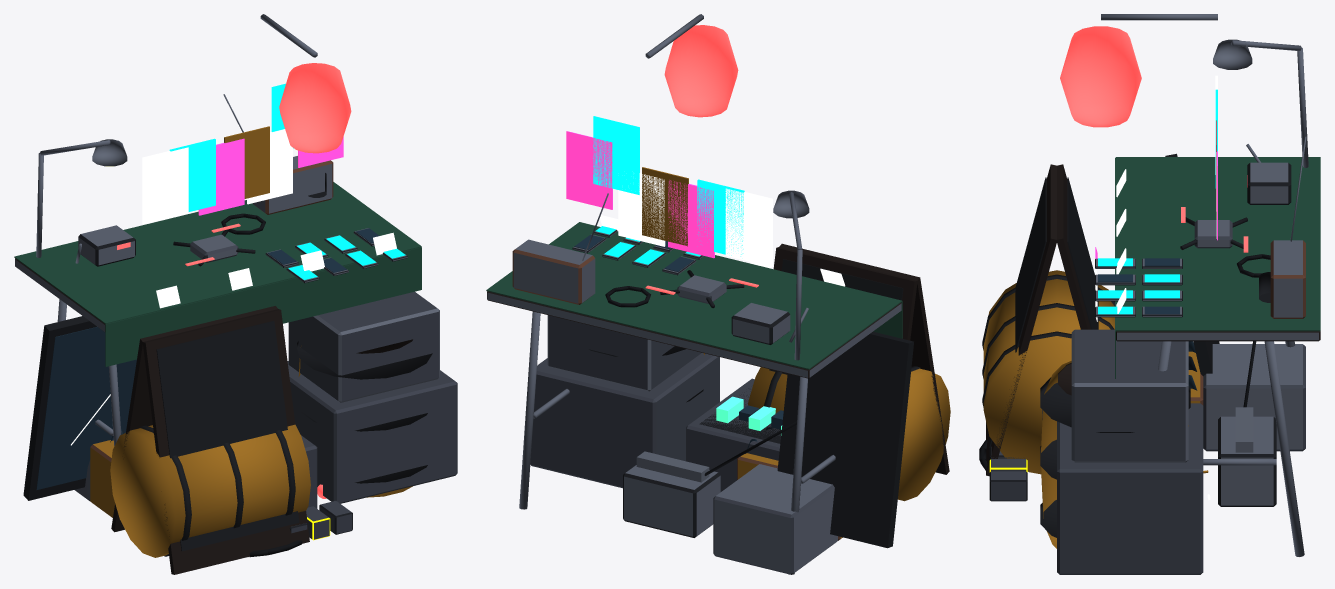
File: room-detail-rynek-props.glb
The picture shows the model from 3 angles, left to right: view 1: azimuth 30°, elevation 25°; view 2: azimuth 150°, elevation 25°; view 3: azimuth 270°, elevation 25°; orthographic projection. The views are drawn at different scales.
Parts seen in each view (by area): view 1: rd-ry-table, rd-ry-denki, rd-ry-karaoke, rd-ry-sake; view 2: rd-ry-table, rd-ry-denki, rd-ry-karaoke, rd-ry-sake; view 3: rd-ry-table, rd-ry-denki, rd-ry-sake, rd-ry-karaoke.
Part boxes in pixels (box(x1,y1,x2,y2)): rd-ry-table: box(14, 94, 421, 500); rd-ry-denki: box(23, 291, 457, 557); rd-ry-karaoke: box(111, 83, 343, 574); rd-ry-sake: box(90, 14, 432, 557); rd-ry-table: box(486, 190, 902, 574); rd-ry-denki: box(530, 315, 913, 548); rd-ry-karaoke: box(566, 116, 949, 474); rd-ry-sake: box(589, 14, 950, 540); rd-ry-table: box(1095, 39, 1320, 556); rd-ry-denki: box(979, 153, 1219, 574); rd-ry-sake: box(982, 14, 1217, 548); rd-ry-karaoke: box(986, 75, 1217, 500).
Bounding box in the file's own units: 1.6 × 1.87 × 1.16.
Materials: 1 (1 with a texture image).
